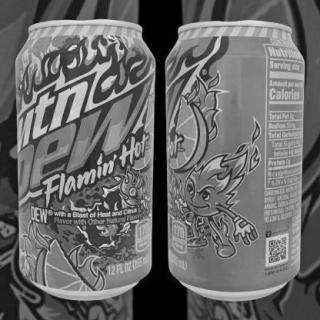alumunium_can: (10, 18, 161, 304), (161, 17, 310, 303)
